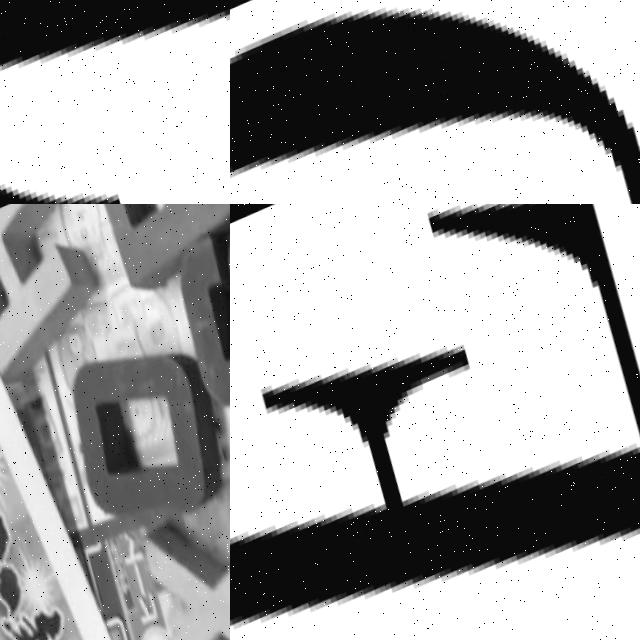E: (230, 355, 640, 631)
O: (230, 13, 640, 204), (52, 326, 230, 551)
P: (75, 204, 230, 308)
R: (0, 204, 117, 396)
S: (153, 204, 230, 424)
T: (0, 0, 230, 204)
X: (126, 479, 230, 640)
